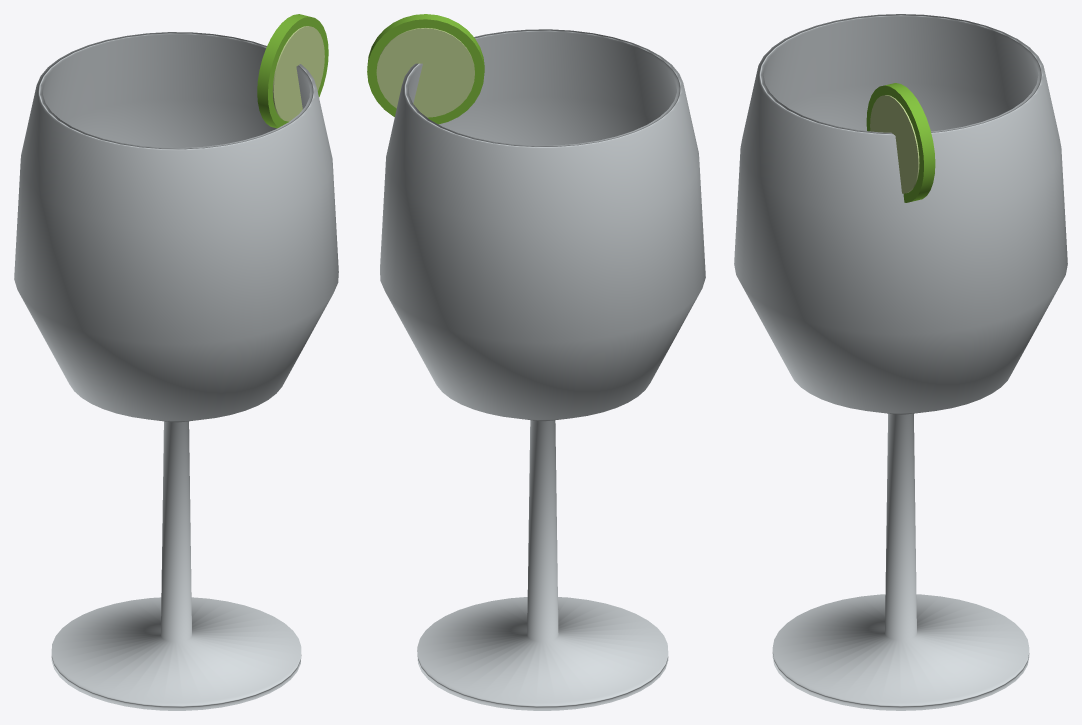
The model's file is bibite-hugo-spritz.glb.
3 renders of one model, left to right at view 1: azimuth 30°, elevation 25°; view 2: azimuth 150°, elevation 25°; view 3: azimuth 270°, elevation 25°, orthographic. The views are drawn at different scales.
Bounding box in the file's own units: 0.1124 × 0.2154 × 0.104.
